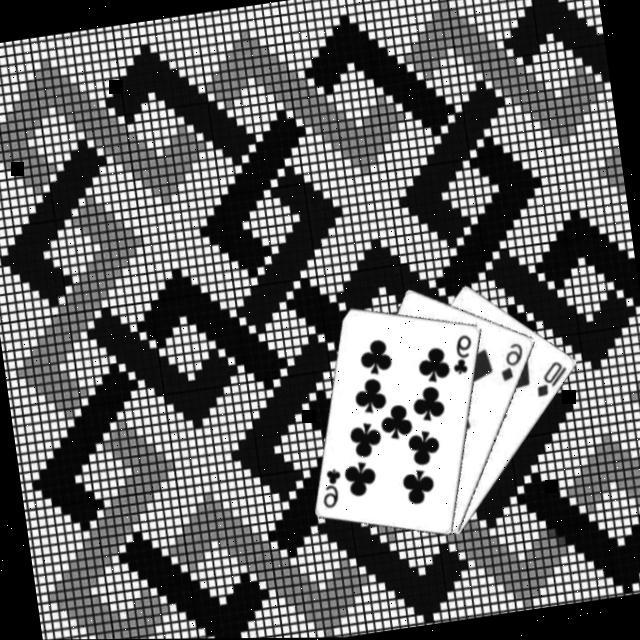10D: (528, 358, 572, 402)
6D: (492, 341, 528, 386)
9C: (444, 332, 478, 380), (314, 466, 347, 512)
